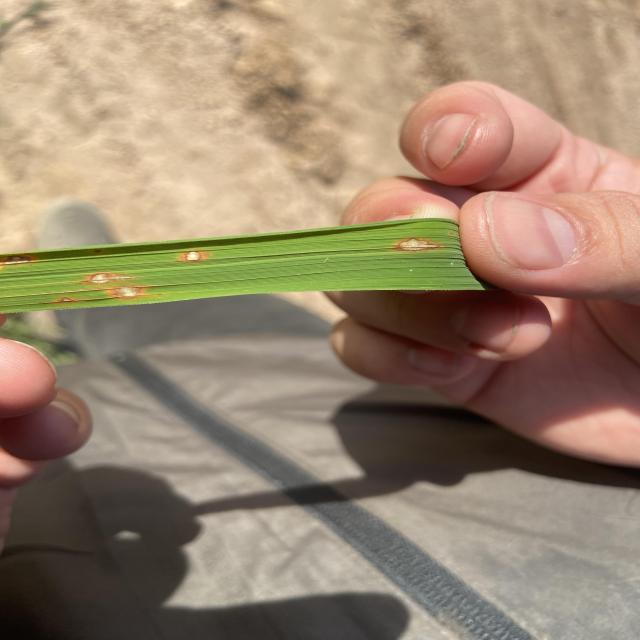Dao on: (399, 238, 439, 251), (85, 274, 132, 283), (2, 255, 33, 265), (113, 286, 141, 297), (185, 251, 203, 261), (60, 297, 73, 302)
